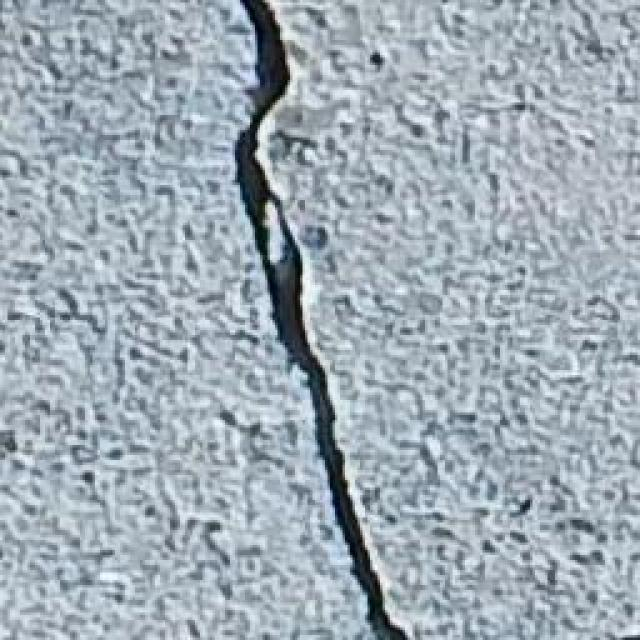concrete-crack: (236, 4, 415, 640)
